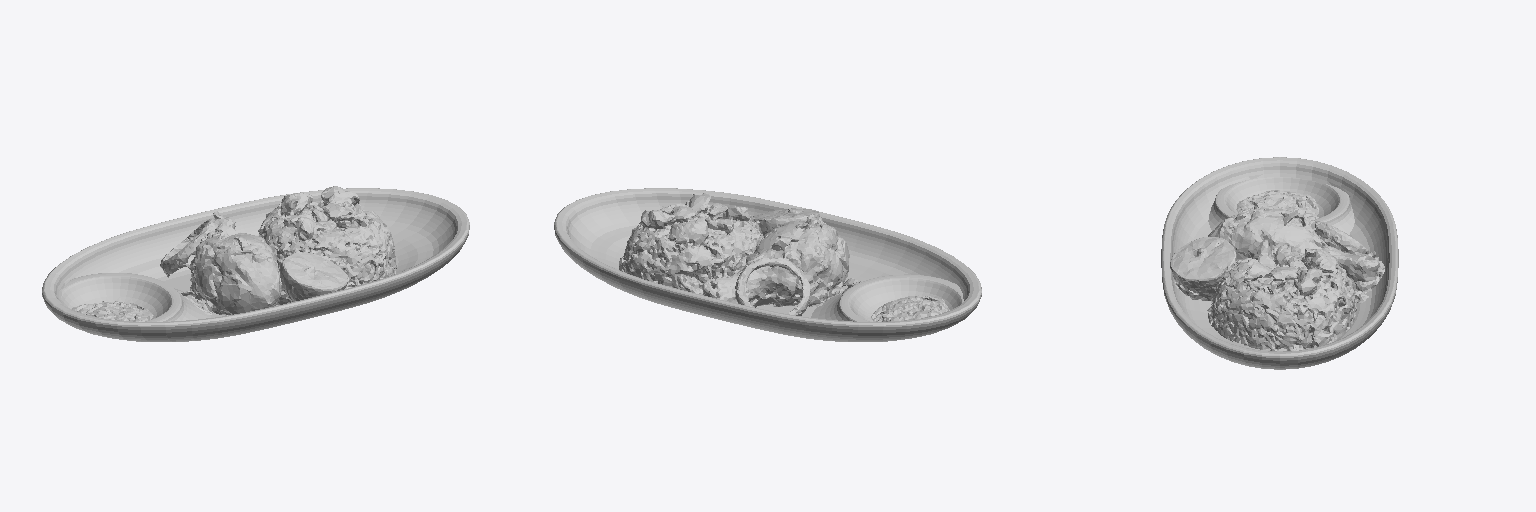
Rendered from chickenrice.obj.
3 renders of one model, left to right at view 1: azimuth 30°, elevation 25°; view 2: azimuth 150°, elevation 25°; view 3: azimuth 270°, elevation 25°, orthographic.
Parts seen in each view (by area): view 1: chickenrice; view 2: chickenrice; view 3: chickenrice.
Boxes of the visible parts, x1=… form: chickenrice: x1=42, y1=186, x2=469, y2=341; chickenrice: x1=554, y1=188, x2=981, y2=341; chickenrice: x1=1161, y1=157, x2=1398, y2=369.
Bounding box in the file's own units: 0.6164 × 0.0991 × 0.3112.